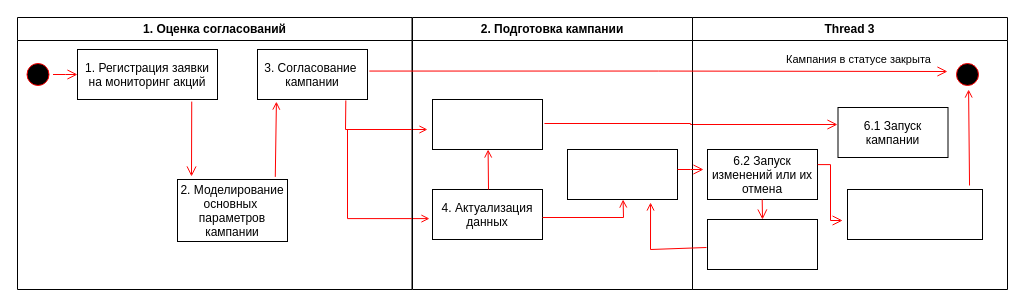
This 1025x307 diagram has some shape labels left out. The centre of each missing label's shape, as x and y in pixels:
"5.1 Настройка кампании" belongs at [487,124].
"5.2 Изменение настроек кампании" belongs at [622,174].
"7. Анализ хода кампании" belongs at [762,244].
"8. Подведение итогов кампании" belongs at [914,214].
